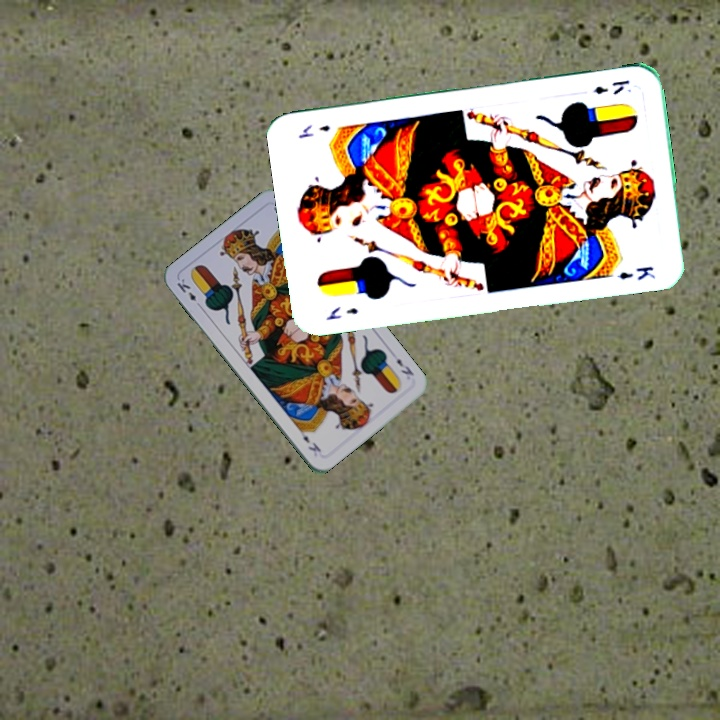EK: (173, 274, 205, 311), (589, 75, 632, 97), (388, 348, 417, 378), (322, 303, 360, 322)
